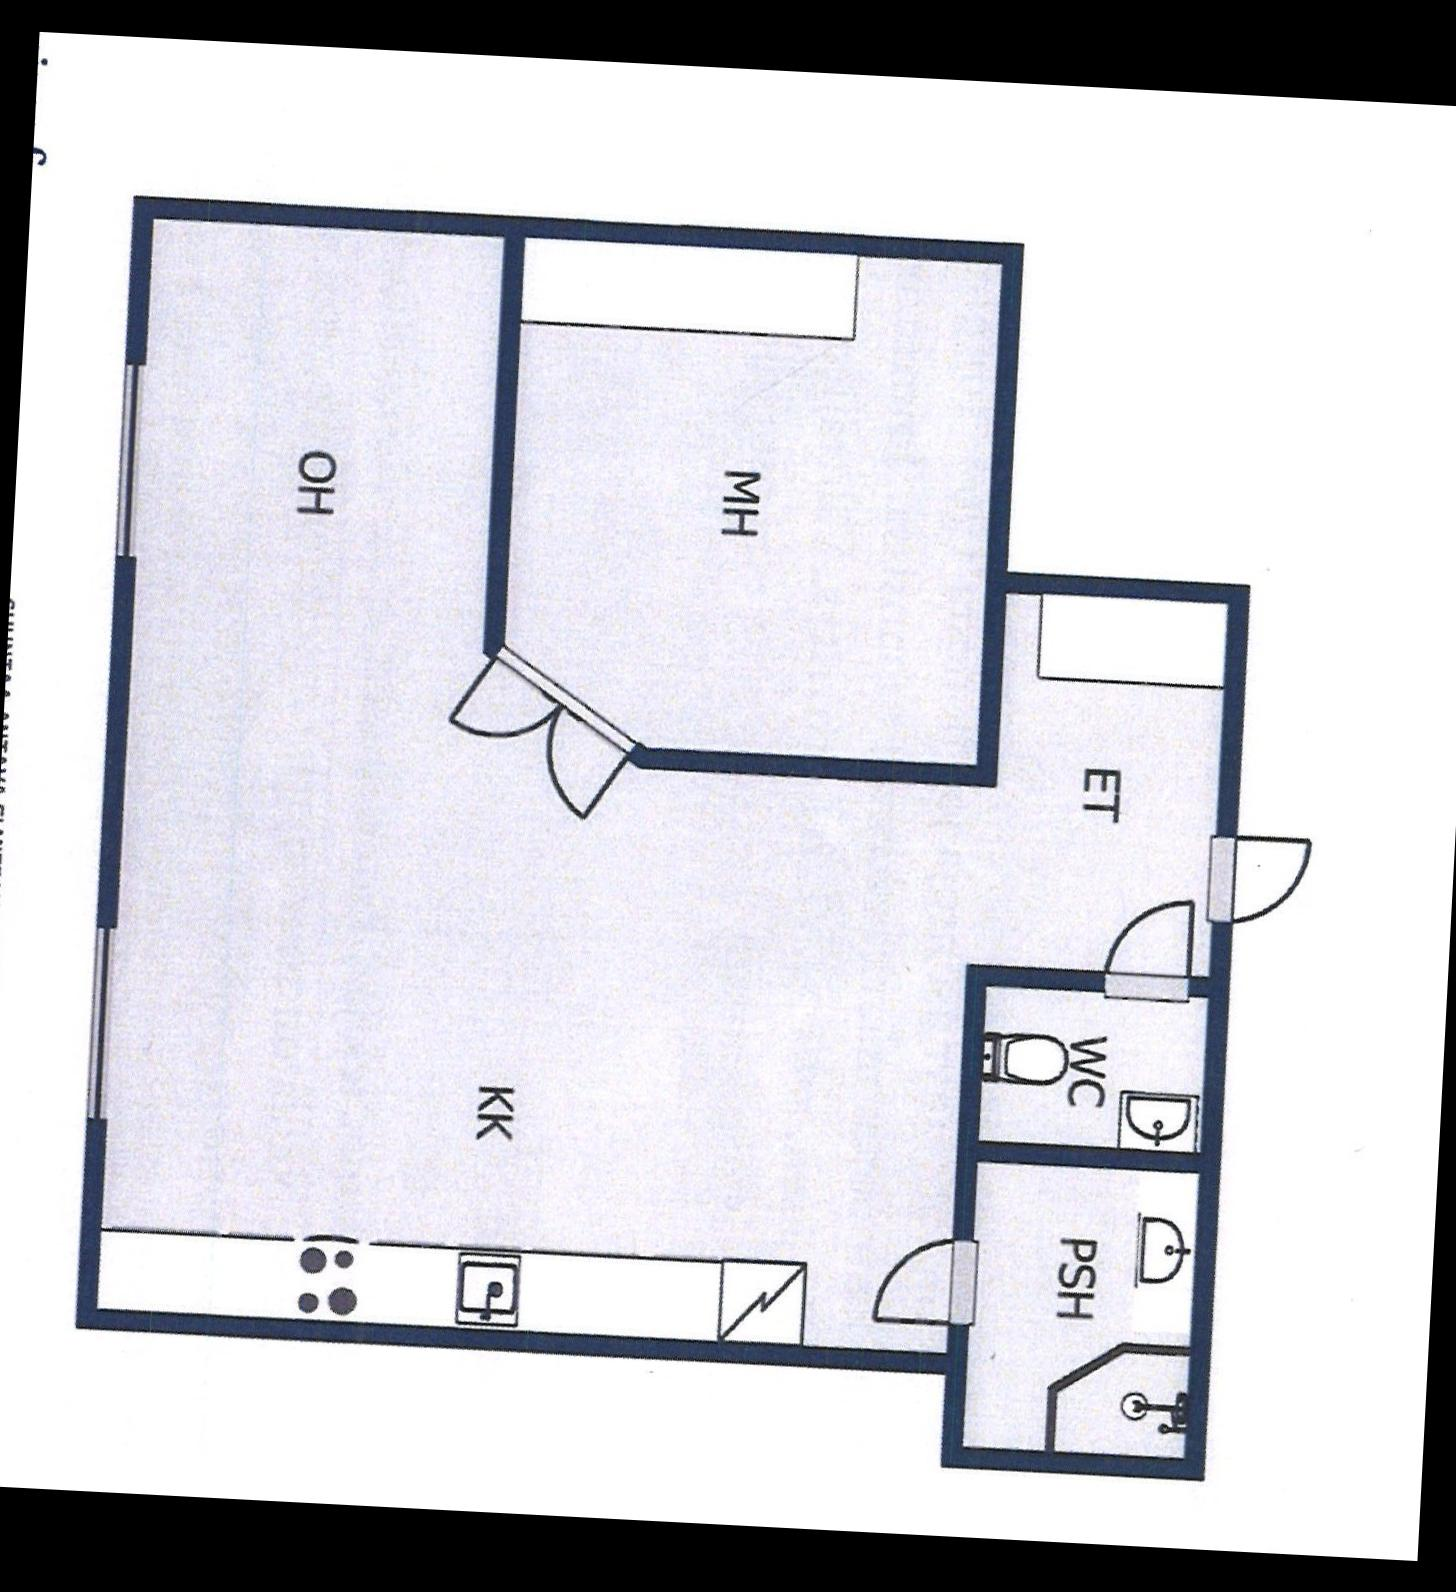door: (1194, 813, 1327, 936), (441, 628, 557, 759), (534, 698, 643, 835), (861, 1225, 990, 1340), (1097, 882, 1201, 1012)
window: (98, 344, 161, 574), (71, 904, 129, 1139)
